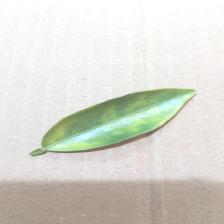greening: (39, 84, 201, 152)
